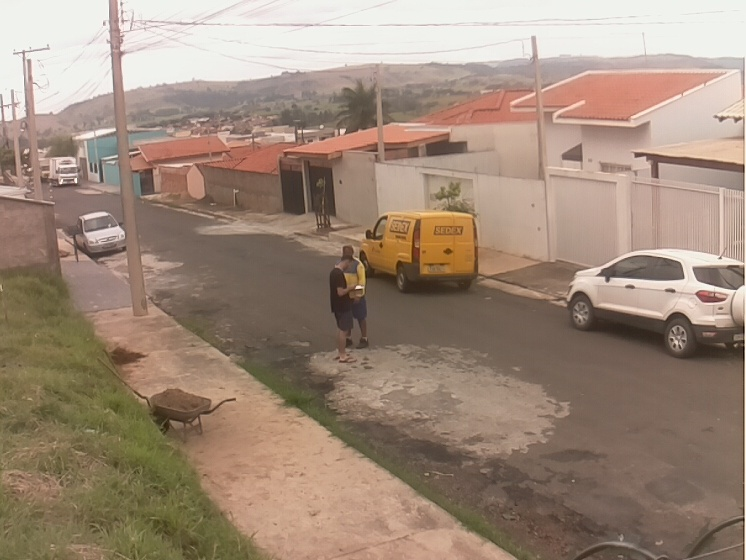person: (337, 244, 372, 351), (327, 255, 359, 365)
